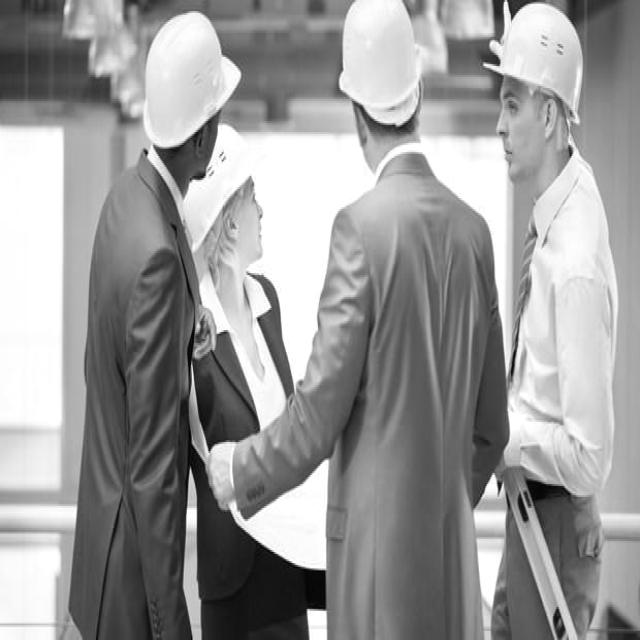face_nomask: (497, 79, 538, 192), (224, 184, 267, 262), (187, 105, 221, 185)
hand_noglove: (203, 424, 244, 519)
head_helmet: (135, 11, 242, 149), (486, 9, 590, 125), (336, 2, 426, 108), (185, 119, 262, 229)
person: (306, 2, 504, 640), (479, 7, 629, 638), (70, 17, 209, 629), (182, 114, 316, 634)
